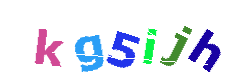5: (84, 0, 164, 80)
G: (52, 0, 132, 80)
H: (137, 0, 217, 80)
I: (109, 0, 189, 80)
J: (125, 0, 205, 80)
K: (7, 0, 87, 80)
